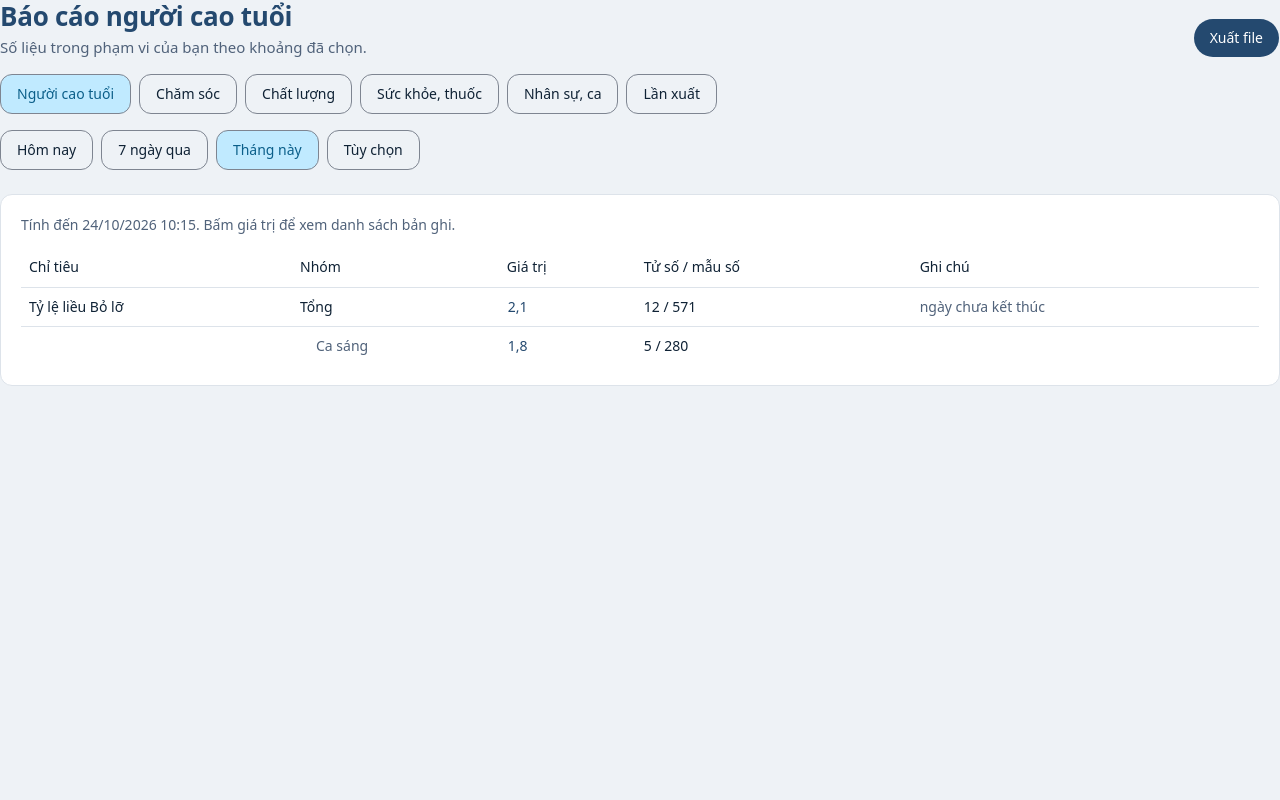
Scenario: ReportsPage › FR_061_vaiTroKhac_chiTongHop
The width and height of the screenshot is (1280, 800).
Expected: the text "Tỷ lệ liều Bỏ lỡ" is shown, [21,287,292,326]
Step 1. Click the button "Xuất file" → (1236, 38), box [1193,18,1279,58]
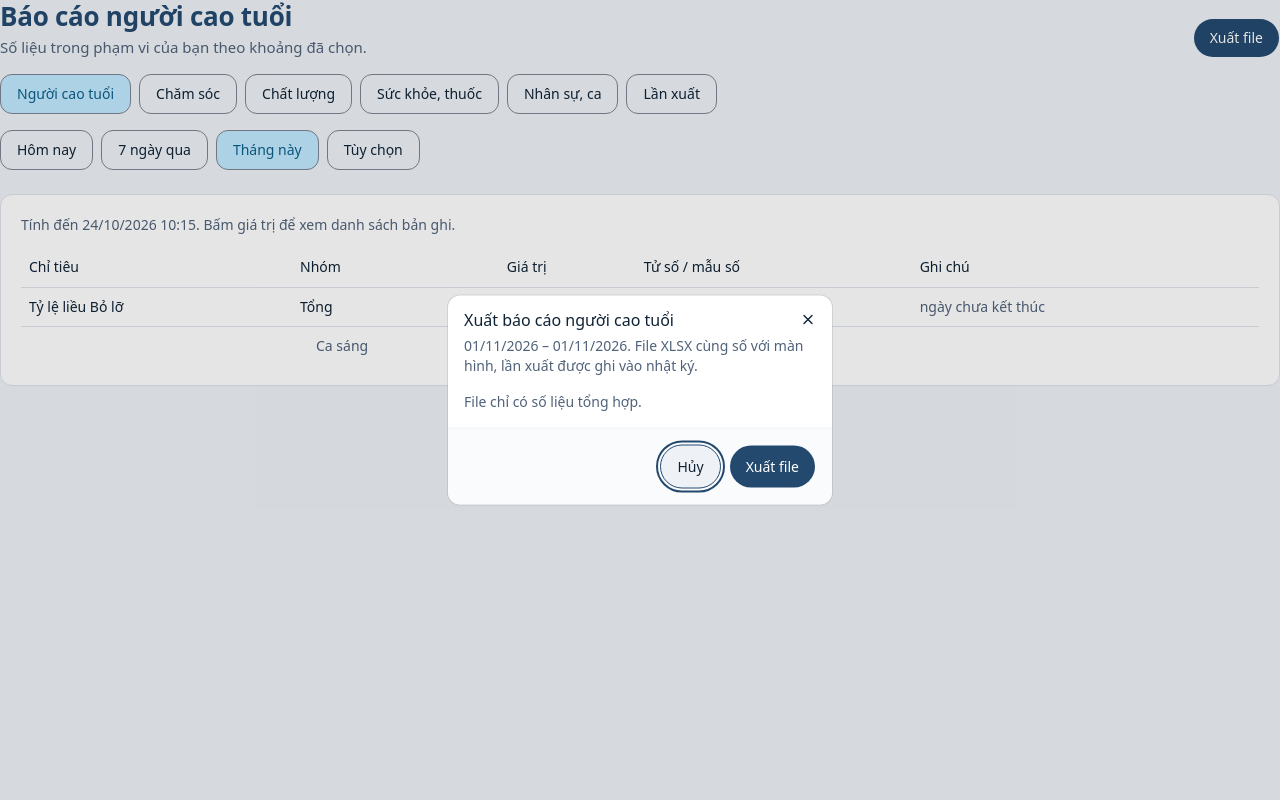
Expected: the text "File chỉ có số liệu tổng hợp." is shown, [464,392,642,410]
